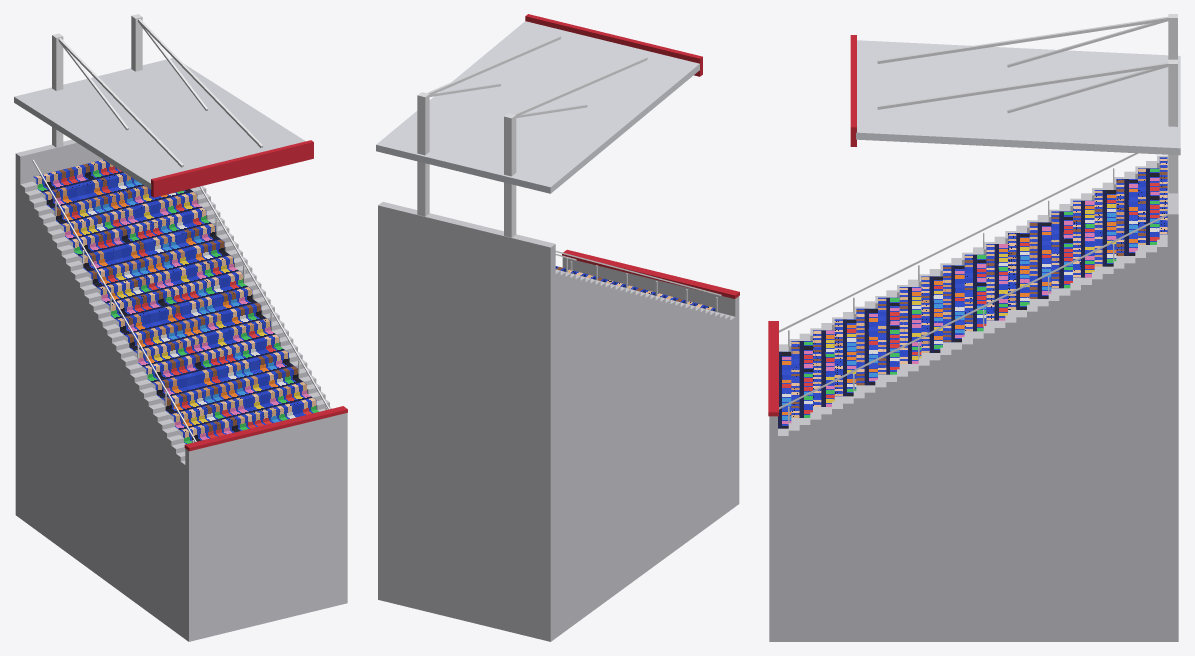
The model's file is grandstand.glb.
The picture shows the model from 3 angles, left to right: view 1: azimuth 30°, elevation 25°; view 2: azimuth 150°, elevation 25°; view 3: azimuth 270°, elevation 25°; orthographic projection. The views are drawn at different scales.
Parts seen in each view (by area): view 1: concrete, crowd, roof, steel, trim; view 2: concrete, roof, steel, trim, crowd; view 3: concrete, roof, crowd, steel, trim.
Boxes of the visible parts, x1=… form: concrete: x1=15, y1=139, x2=347, y2=641; crowd: x1=33, y1=159, x2=319, y2=444; roof: x1=14, y1=58, x2=305, y2=189; steel: x1=32, y1=14, x2=329, y2=442; trim: x1=151, y1=140, x2=347, y2=451; concrete: x1=378, y1=202, x2=739, y2=641; roof: x1=376, y1=21, x2=699, y2=193; steel: x1=417, y1=36, x2=721, y2=311; trim: x1=525, y1=14, x2=739, y2=298; crowd: x1=555, y1=266, x2=715, y2=311; concrete: x1=769, y1=155, x2=1178, y2=641; roof: x1=856, y1=40, x2=1180, y2=155; crowd: x1=778, y1=157, x2=1167, y2=428; steel: x1=779, y1=14, x2=1177, y2=422; trim: x1=768, y1=35, x2=856, y2=416.
Bounding box in the file's own units: 10.1 × 28.4 × 19.05.
5 materials, 1 textured.
